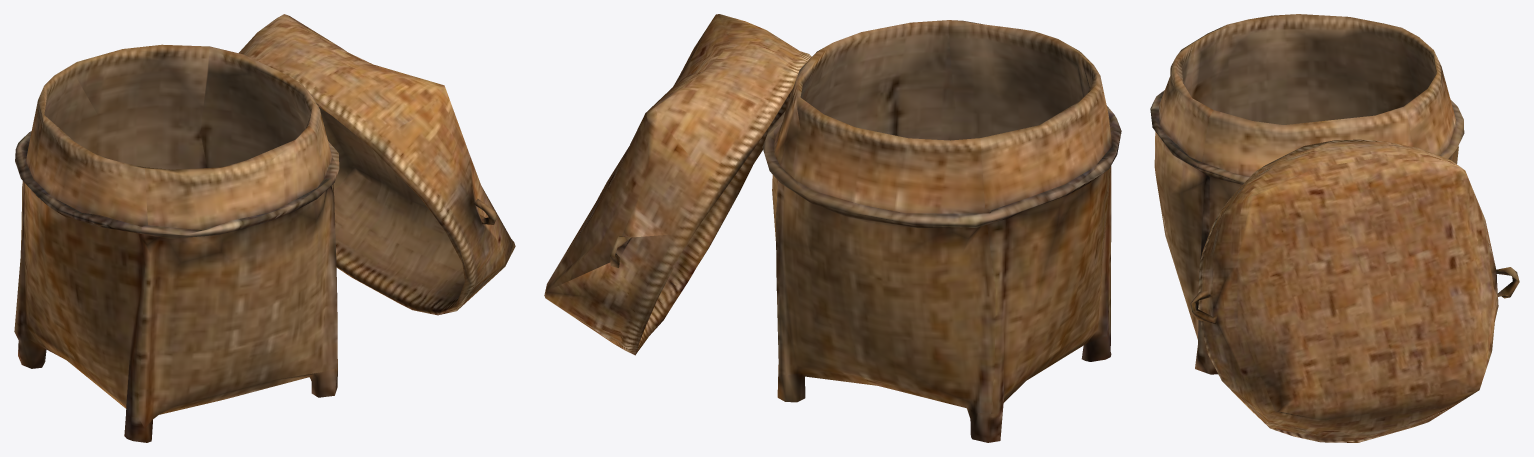
File: wicker_basket_02.glb
The picture shows the model from 3 angles, left to right: view 1: azimuth 30°, elevation 25°; view 2: azimuth 150°, elevation 25°; view 3: azimuth 270°, elevation 25°; orthographic projection. The views are drawn at different scales.
Parts seen in each view (by area): view 1: wicker_basket_02_base, wicker_basket_02_lid; view 2: wicker_basket_02_base, wicker_basket_02_lid; view 3: wicker_basket_02_lid, wicker_basket_02_base.
Part boxes in pixels (<box>): wicker_basket_02_base: <box>14,44,339,442</box>; wicker_basket_02_lid: <box>238,14,515,315</box>; wicker_basket_02_base: <box>762,20,1121,442</box>; wicker_basket_02_lid: <box>544,14,811,355</box>; wicker_basket_02_lid: <box>1190,139,1519,442</box>; wicker_basket_02_base: <box>1150,14,1464,374</box>.
Size of the model in its own units: 0.3469 by 0.1999 by 0.2541.
1 material, 1 textured.
